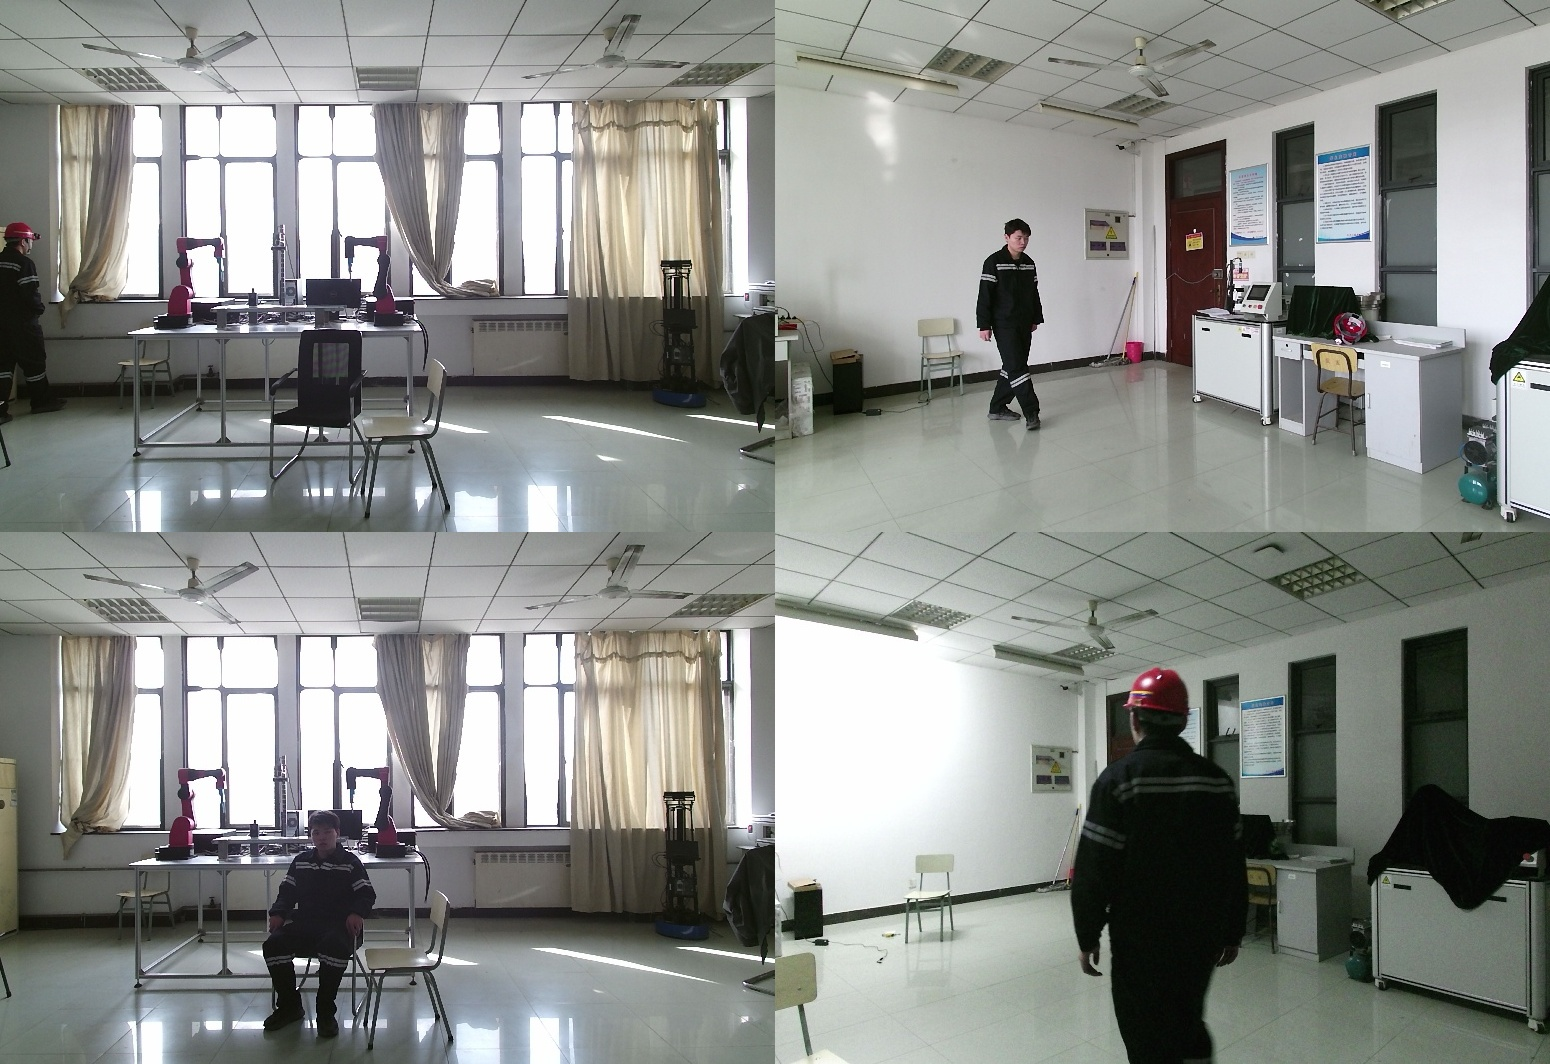person: (1071, 669, 1265, 1064), (261, 812, 383, 1030), (968, 218, 1042, 431), (1, 224, 64, 416)
